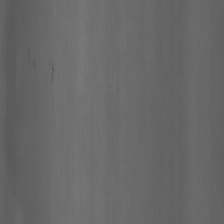water_spot: (47, 59, 60, 97), (25, 43, 37, 77)
